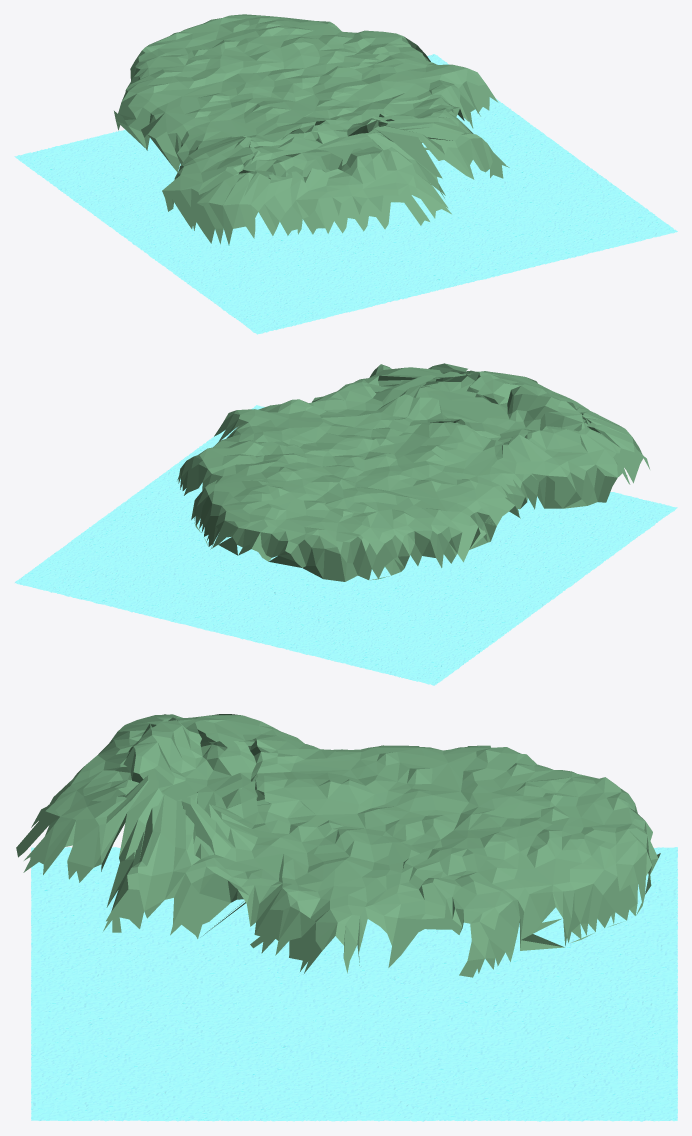
File: greenIsland.fbx
The picture shows the model from 3 angles, top to bottom: view 1: azimuth 30°, elevation 25°; view 2: azimuth 150°, elevation 25°; view 3: azimuth 270°, elevation 25°; orthographic projection. The views are drawn at different scales.
Visible parts, largest first — view 1: Plane.001, Plane.003; view 2: Plane.001, Plane.003; view 3: Plane.003, Plane.001.
Boxes of the visible parts, x1,y1,x2,y2 form: Plane.001: [114, 14, 509, 245]; Plane.003: [14, 54, 677, 334]; Plane.001: [177, 363, 649, 581]; Plane.003: [15, 405, 677, 685]; Plane.003: [31, 847, 677, 1121]; Plane.001: [16, 714, 660, 977].
Size of the model in its own units: 2.09 by 0.6021 by 2.05.
